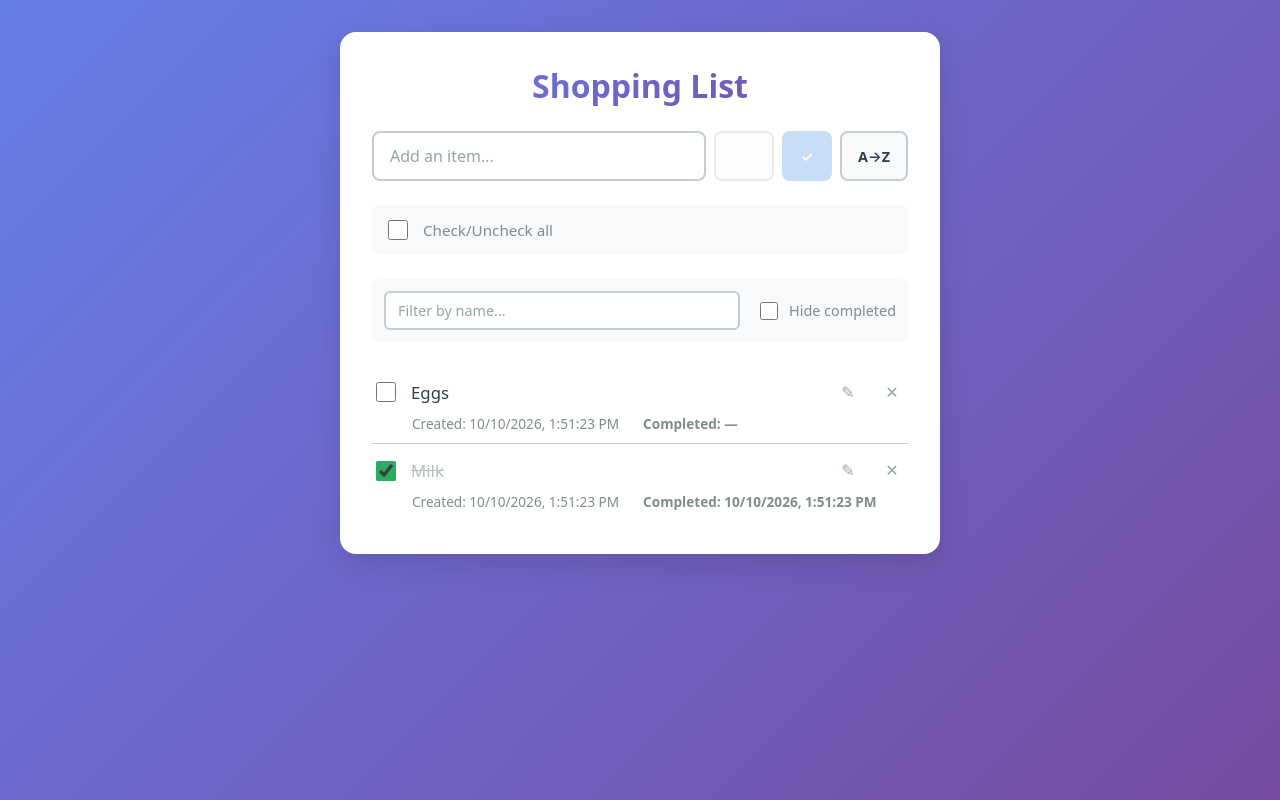
Test: App › hides completed items when 'Hide completed' is checked
expect the text "Milk" is shown: met, box [411,459,444,482]
expect the text "Eggs" is shown: met, box [411,381,449,404]
What coordinates should you click on to do the following:
click the checkbox labelled "Hide completed"
I would click on:
 (769, 310)
Its box is [760,302,778,320].
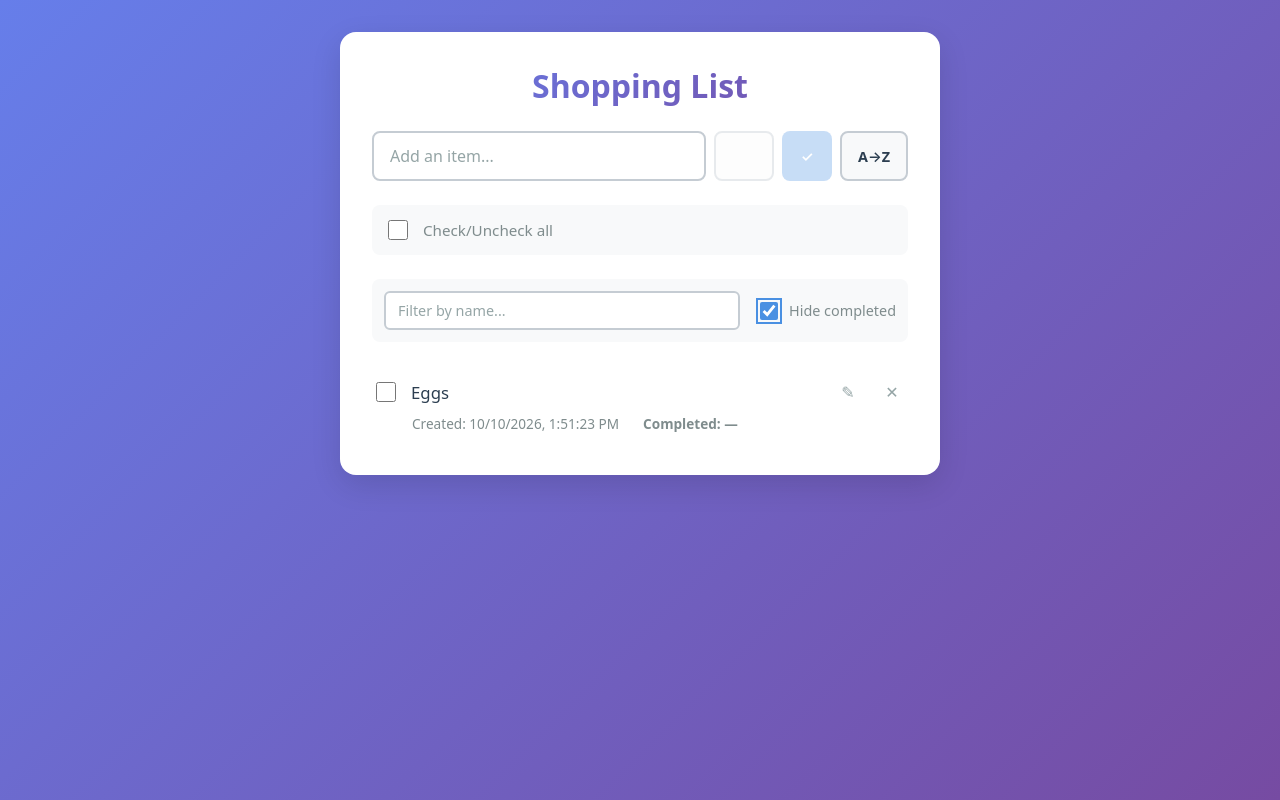
expect the text "Eggs" is shown: met, box [411,381,449,404]
expect the text "Milk" is gone: met
